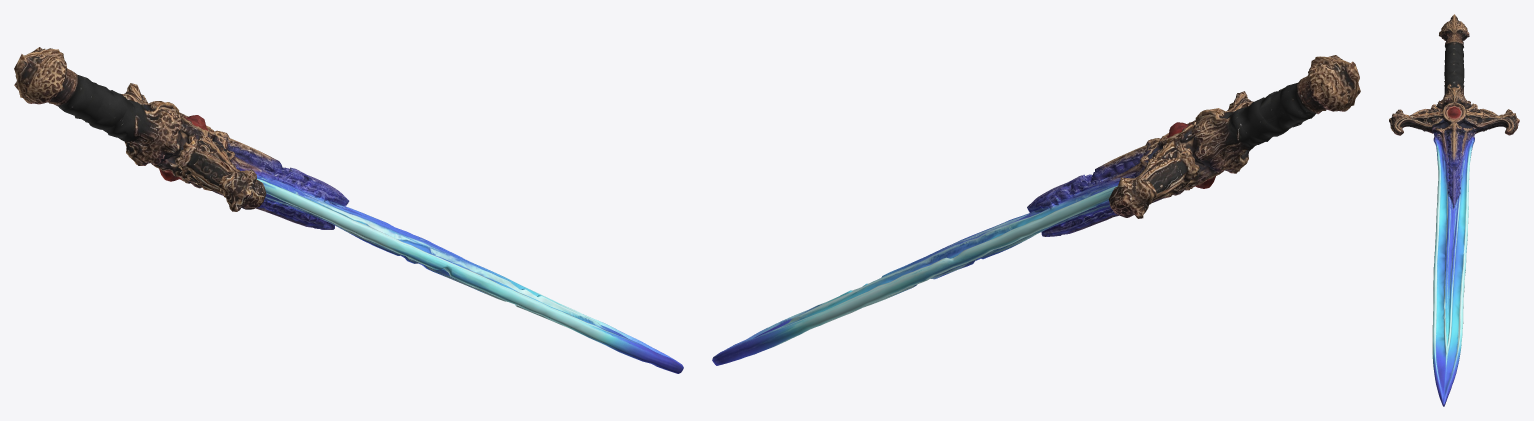
File: tripo_convert_b4fbab5a-93ba-4747-b831-86dd035c7c1e.fbx
The picture shows the model from 3 angles, left to right: view 1: azimuth 30°, elevation 25°; view 2: azimuth 150°, elevation 25°; view 3: azimuth 270°, elevation 25°; orthographic projection. The views are drawn at different scales.
Visible parts, largest first — view 1: tripo_part_5, tripo_part_1; view 2: tripo_part_5, tripo_part_1; view 3: tripo_part_1, tripo_part_5.
Part boxes in pixels (x1,y1,x2,y2): tripo_part_5: (14, 47, 349, 229); tripo_part_1: (200, 162, 683, 373); tripo_part_5: (1027, 55, 1360, 236); tripo_part_1: (712, 163, 1144, 365); tripo_part_1: (1432, 130, 1476, 406); tripo_part_5: (1389, 14, 1519, 206).
Bounding box in the file's own units: 1 × 0.6819 × 0.3446.
Materials: 2 (2 with a texture image).
